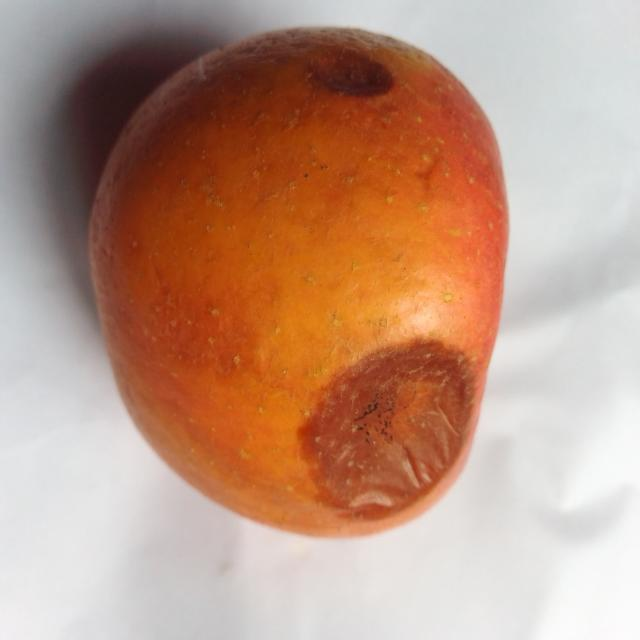apple: (91, 29, 507, 535)
